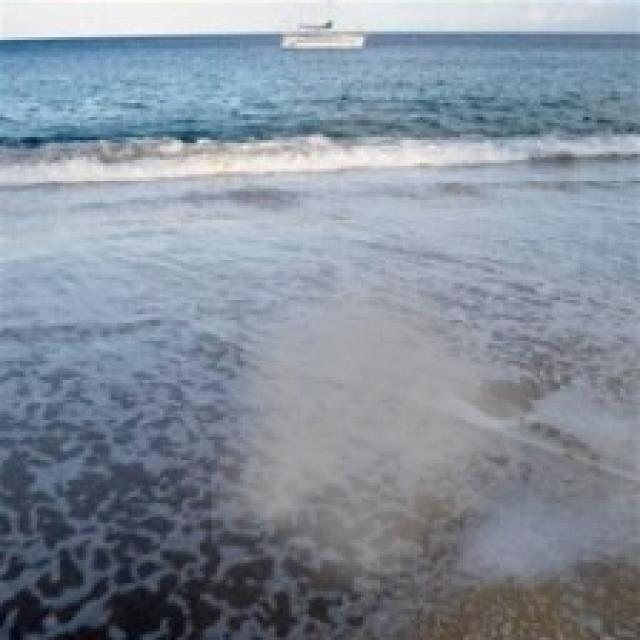Smoke: (212, 248, 568, 612)
